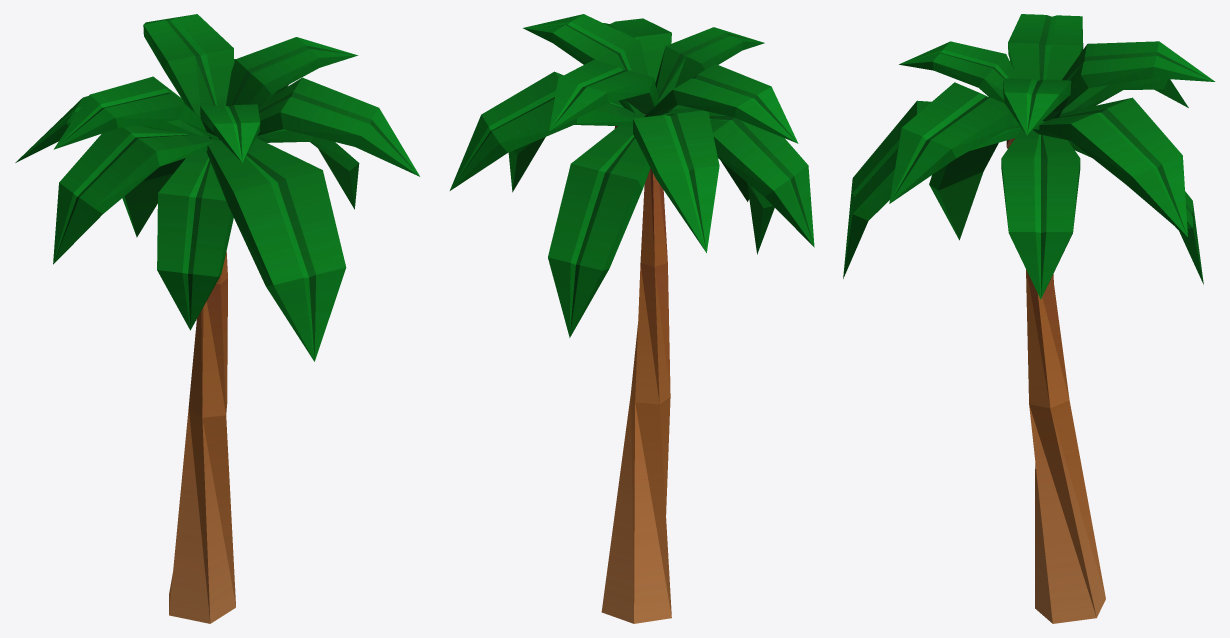
The model's file is tree004.gltf.
The picture shows the model from 3 angles, left to right: view 1: azimuth 30°, elevation 25°; view 2: azimuth 150°, elevation 25°; view 3: azimuth 270°, elevation 25°; orthographic projection.
Visible parts, largest first — view 1: node_Palmtree03_-180380; view 2: node_Palmtree03_-180380; view 3: node_Palmtree03_-180380.
Boxes of the visible parts, box(x1,y1,x2,y2) form: node_Palmtree03_-180380: box(15, 14, 419, 623); node_Palmtree03_-180380: box(450, 14, 814, 623); node_Palmtree03_-180380: box(843, 14, 1215, 623).
Size of the model in its own units: 3.65 by 6.43 by 3.85.
Materials: 1 (1 with a texture image).
